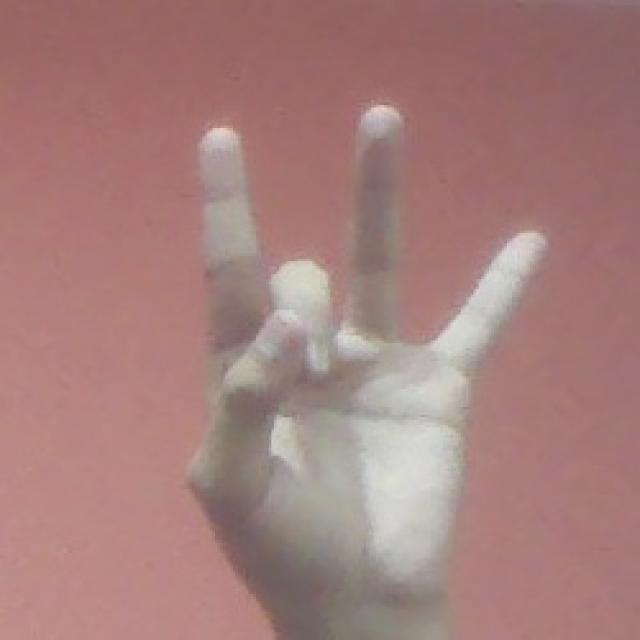Numeric-8: (198, 102, 548, 616)
